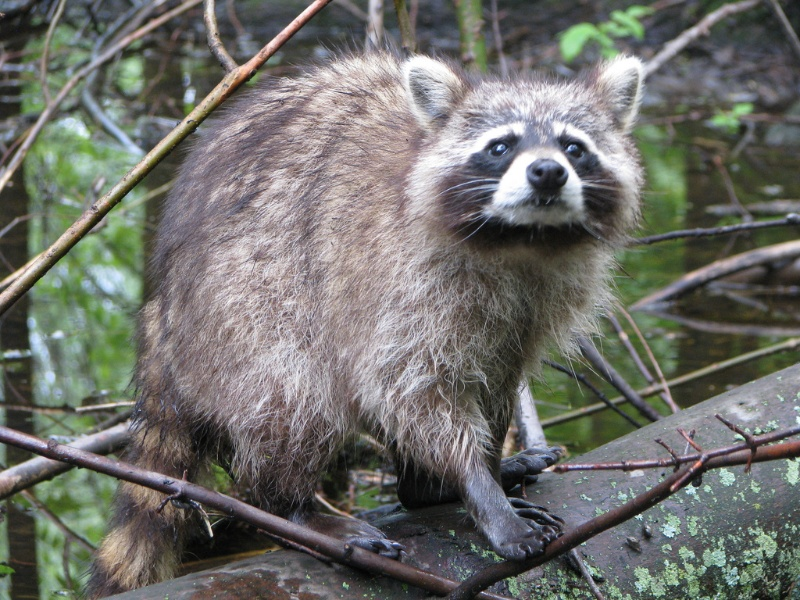raccoon: (85, 53, 658, 589)
